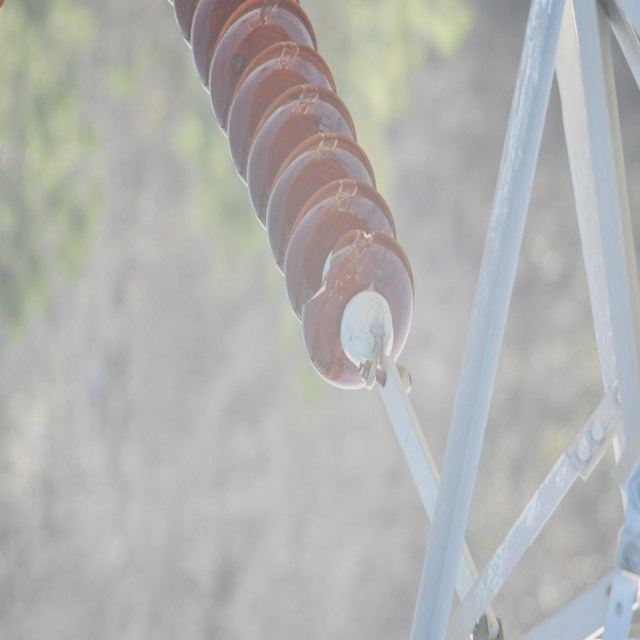broken: (301, 224, 379, 308)
insulator: (172, 1, 417, 396)
